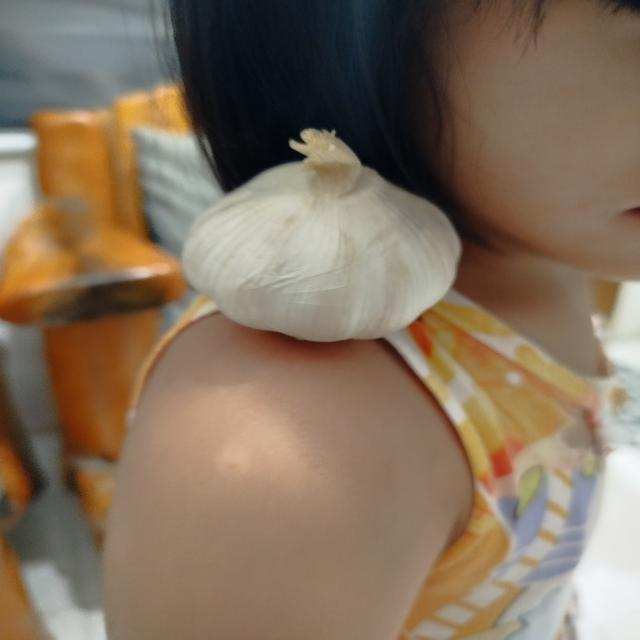garlic: (179, 127, 463, 342)
